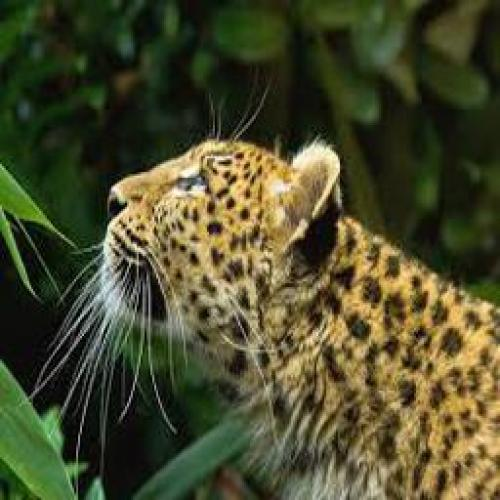amur_leopard-endangered: (98, 130, 500, 500)
